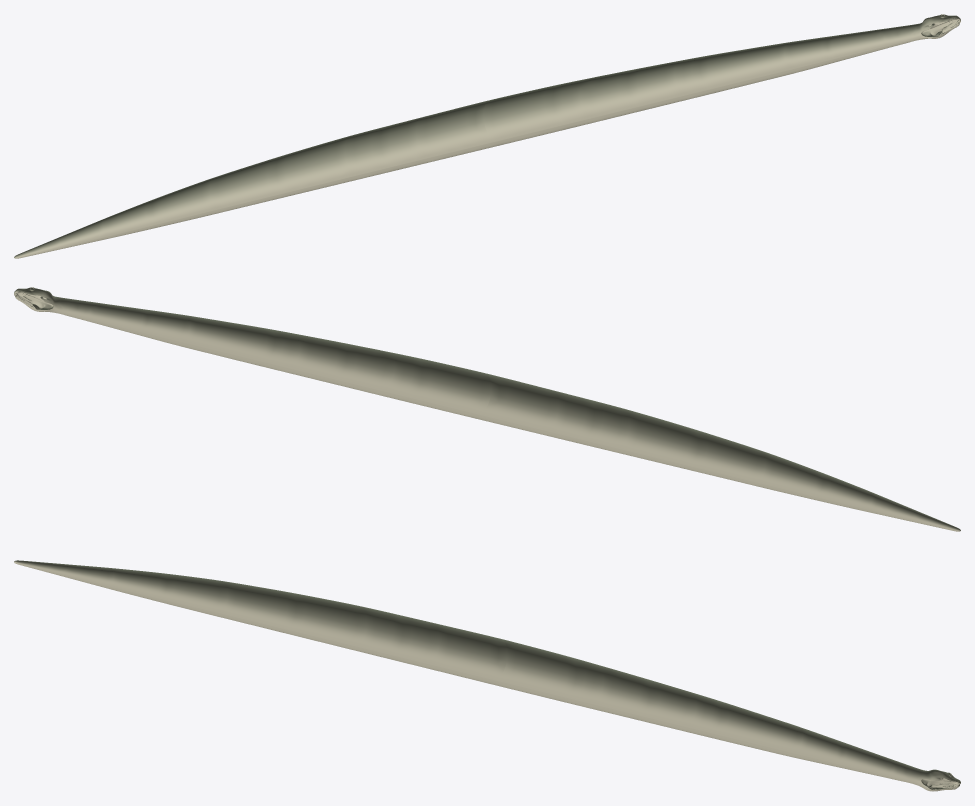
File: titanoboa.glb
The picture shows the model from 3 angles, top to bottom: view 1: azimuth 30°, elevation 25°; view 2: azimuth 150°, elevation 25°; view 3: azimuth 330°, elevation 25°; orthographic projection.
Bounding box in the file's own units: 10 × 0.4247 × 0.4315.
